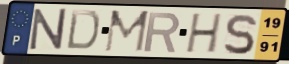D: (64, 8, 102, 52)
H: (184, 12, 225, 55)
M: (102, 9, 151, 54)
N: (28, 7, 68, 52)
R: (142, 10, 182, 54)
S: (222, 12, 258, 56)
